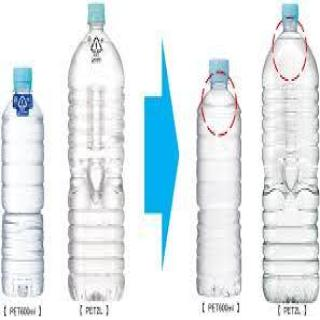Plastic-bottle: (67, 3, 129, 306), (260, 3, 320, 306), (195, 56, 246, 299), (2, 63, 47, 300)
